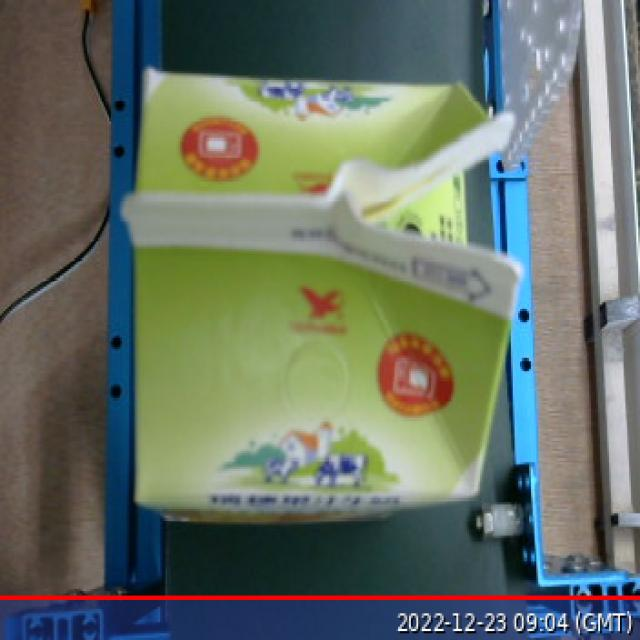non_white_jug: (109, 46, 534, 533)
